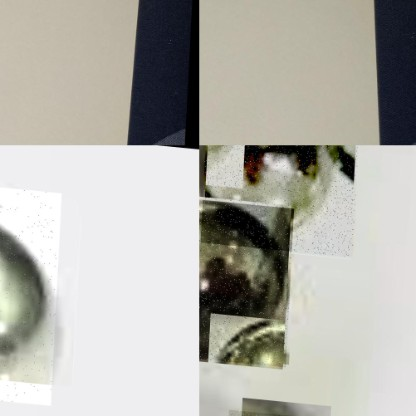ironball: (201, 145, 359, 250), (199, 190, 294, 361), (0, 174, 61, 401)
